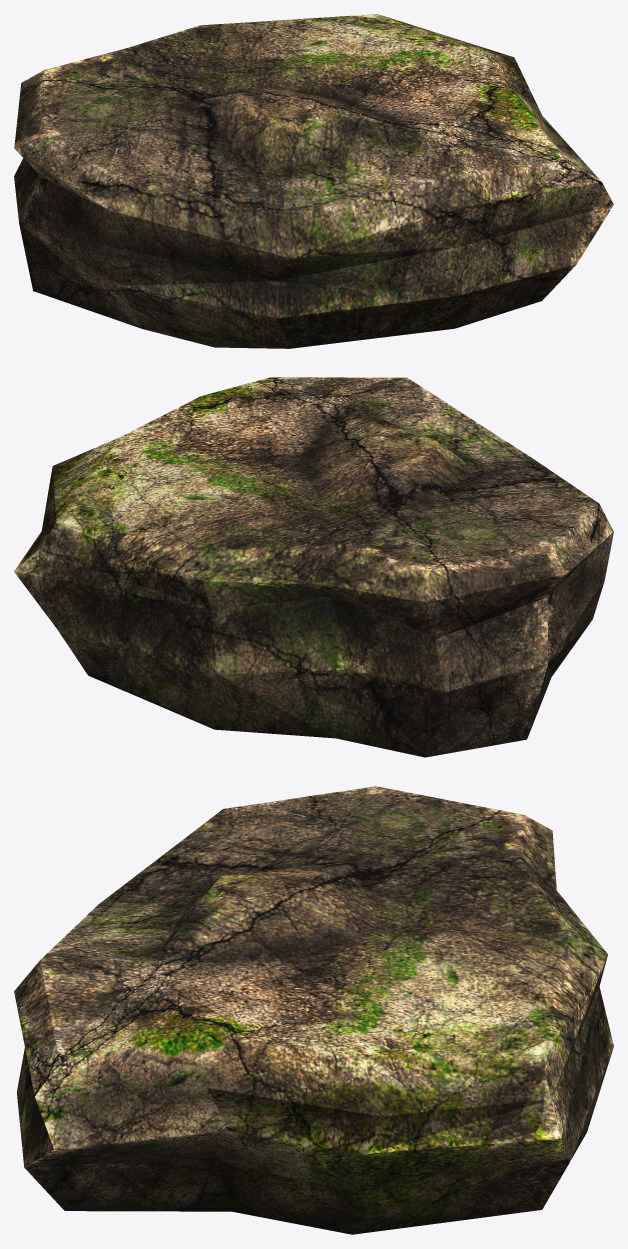
File: rock_011.dae
The picture shows the model from 3 angles, top to bottom: view 1: azimuth 30°, elevation 25°; view 2: azimuth 150°, elevation 25°; view 3: azimuth 270°, elevation 25°; orthographic projection. The views are drawn at different scales.
Parts seen in each view (by area): view 1: Mesh_Object; view 2: Mesh_Object; view 3: Mesh_Object.
Boxes of the visible parts, x1,y1,x2,y2 form: Mesh_Object: (14,14,613,348); Mesh_Object: (14,377,613,757); Mesh_Object: (14,786,613,1234).
Bounding box in the file's own units: 4.57 × 1.92 × 3.92.
